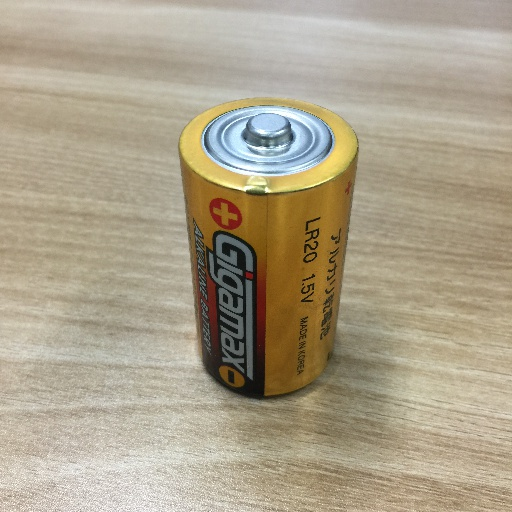Battery_0: (171, 87, 363, 405)
